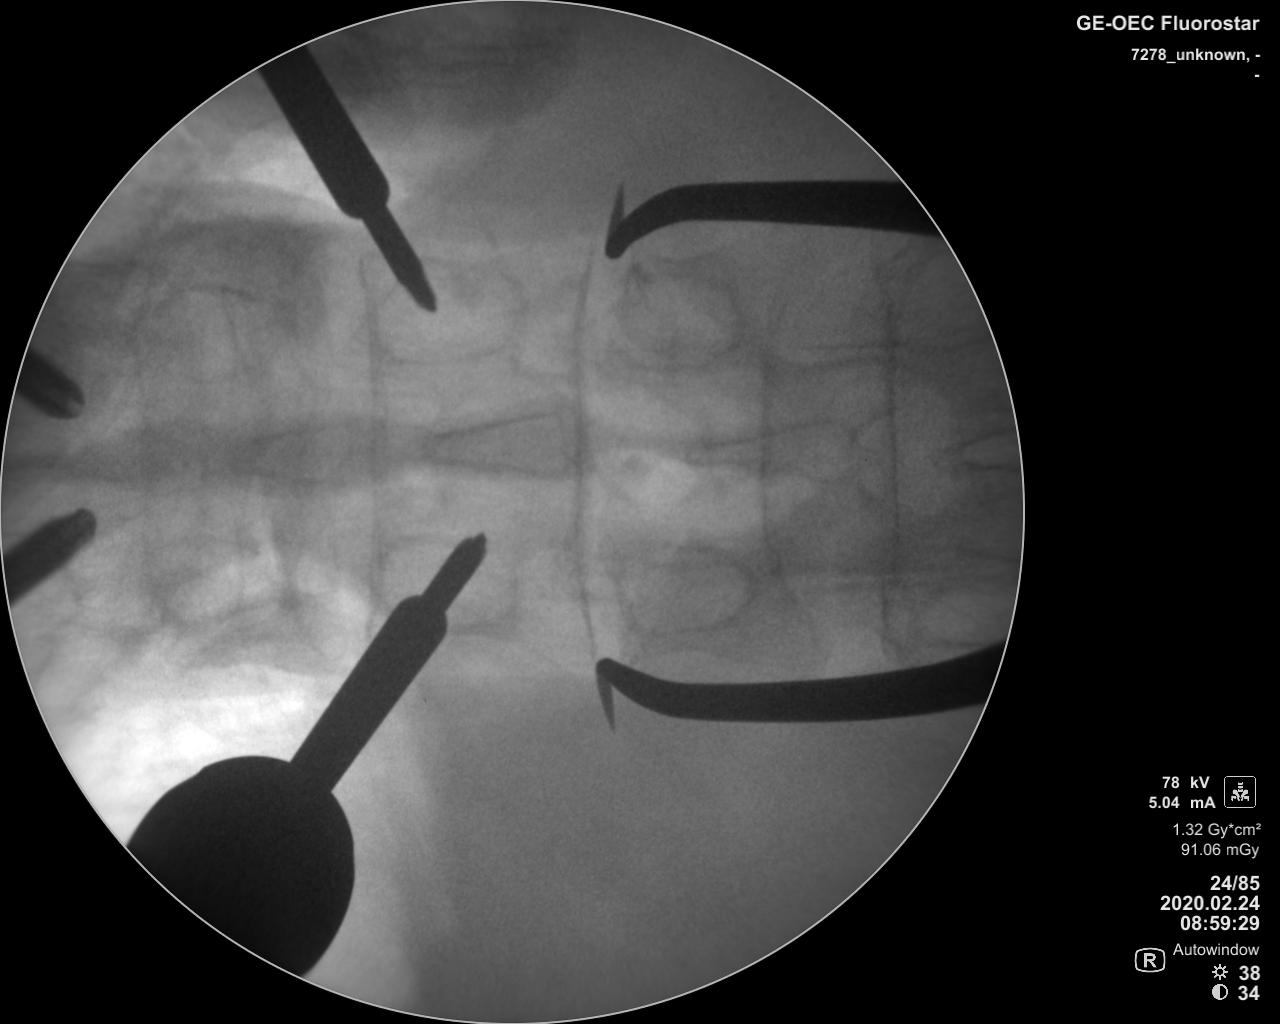eyes: (374, 260, 527, 369), (607, 535, 760, 634), (149, 281, 290, 385), (615, 263, 744, 373), (370, 533, 519, 625), (158, 536, 282, 623)
line: (348, 260, 386, 628), (574, 224, 604, 656), (877, 264, 907, 607), (761, 257, 790, 602)
nose: (420, 399, 585, 481), (669, 417, 859, 487), (32, 425, 229, 488), (224, 419, 405, 484)
